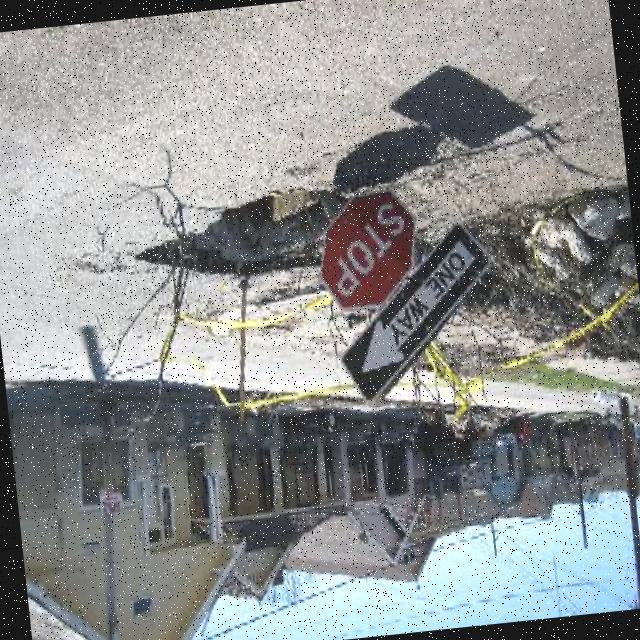Pothole: (137, 188, 356, 279)
